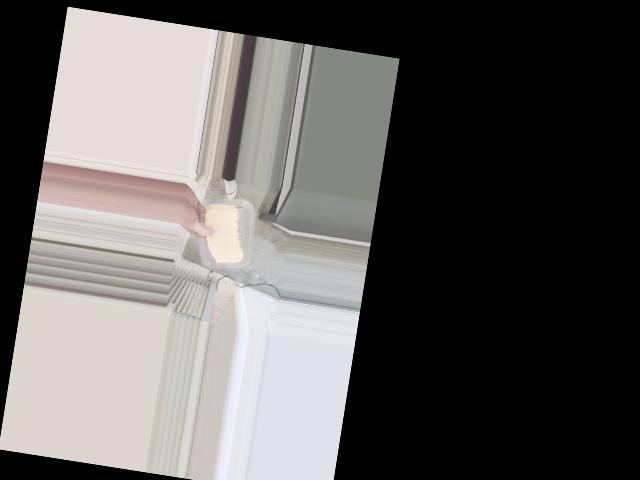cheese: (193, 194, 254, 272)
